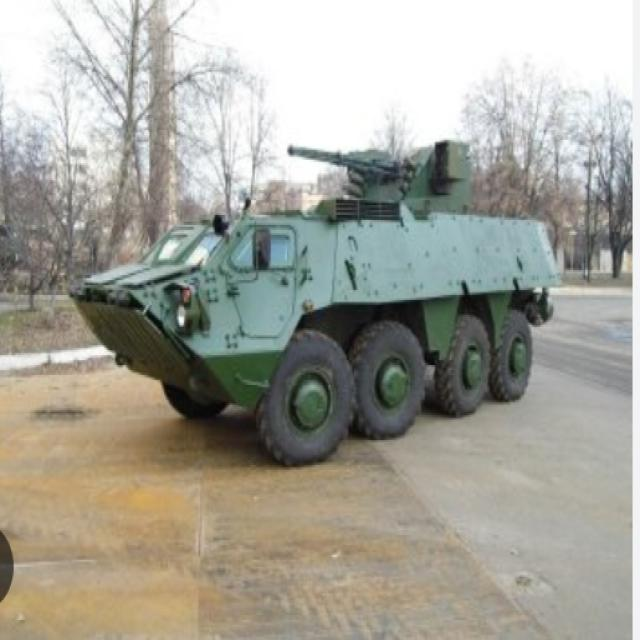MIL_APC: (57, 138, 588, 488)
